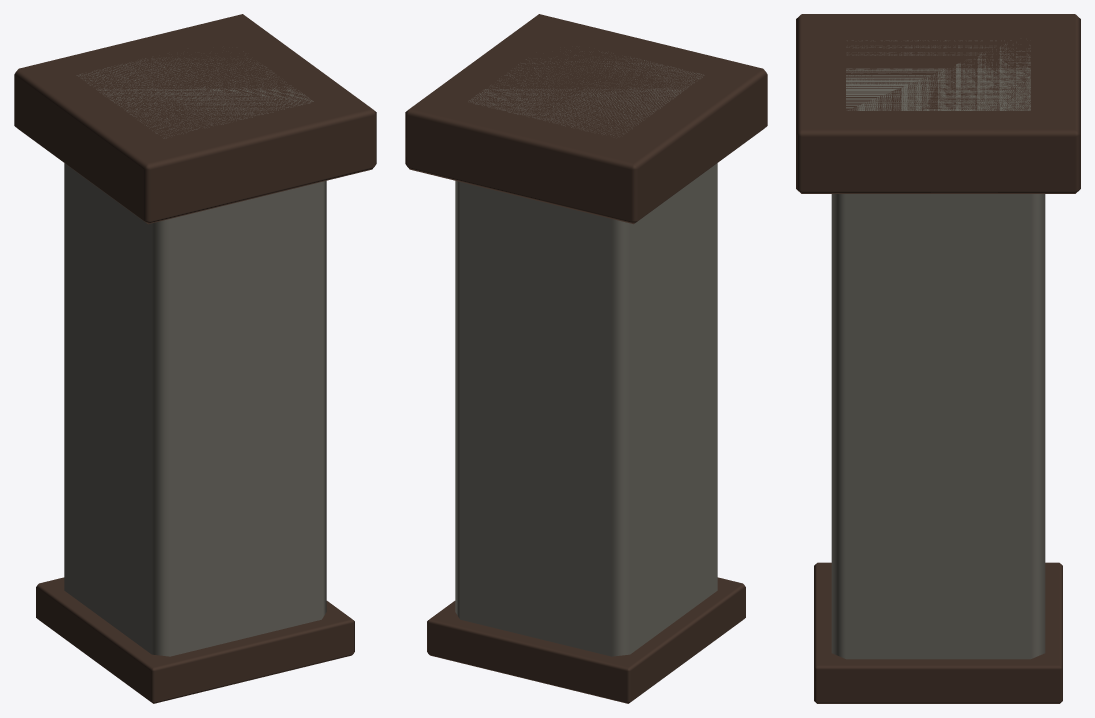
Rendered from village-bridge-pier.527b69a8.glb.
3 renders of one model, left to right at view 1: azimuth 30°, elevation 25°; view 2: azimuth 150°, elevation 25°; view 3: azimuth 270°, elevation 25°, orthographic. The views are drawn at different scales.
Parts seen in each view (by area): view 1: body; view 2: body; view 3: body.
Part boxes in pixels (box(x1,y1,x2,y2)): body: box(14, 14, 376, 703); body: box(405, 14, 767, 703); body: box(796, 14, 1080, 703).
Bounding box in the file's own units: 0.8 × 1.8 × 0.8.
